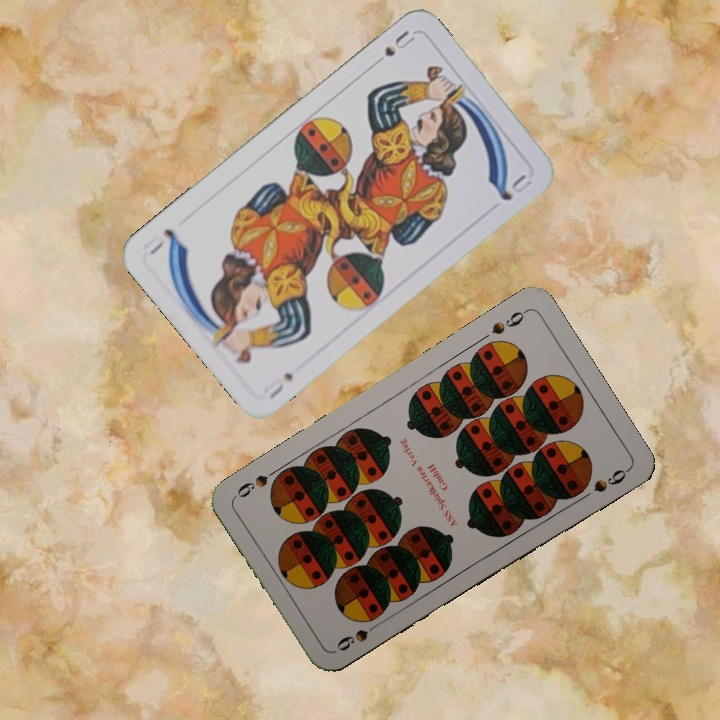S9: (332, 616, 385, 654), (487, 305, 530, 338)
SU: (259, 368, 297, 402), (380, 26, 418, 59)
